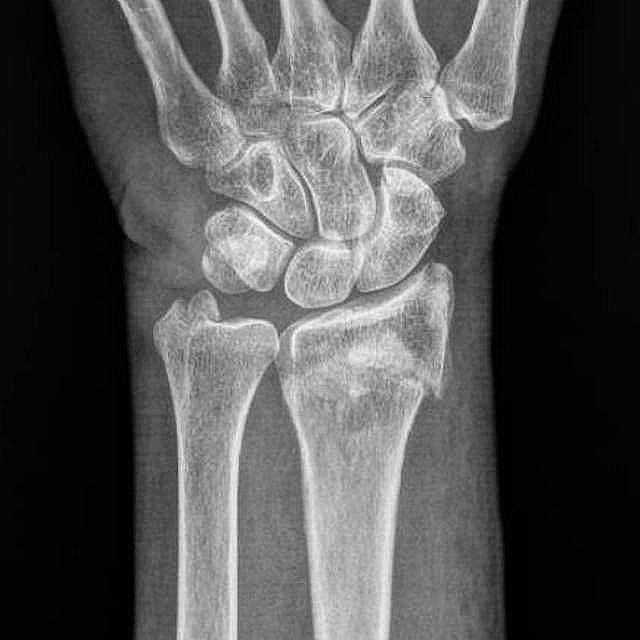bone: (264, 258, 462, 444)
